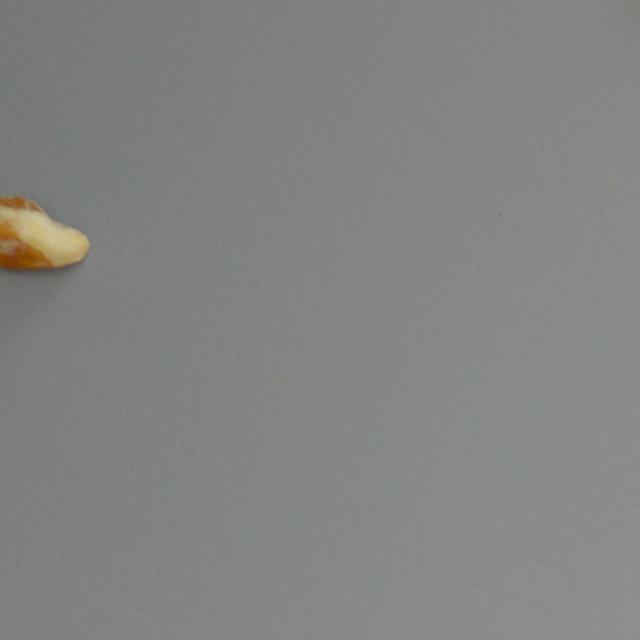dañado: (0, 197, 90, 269)
